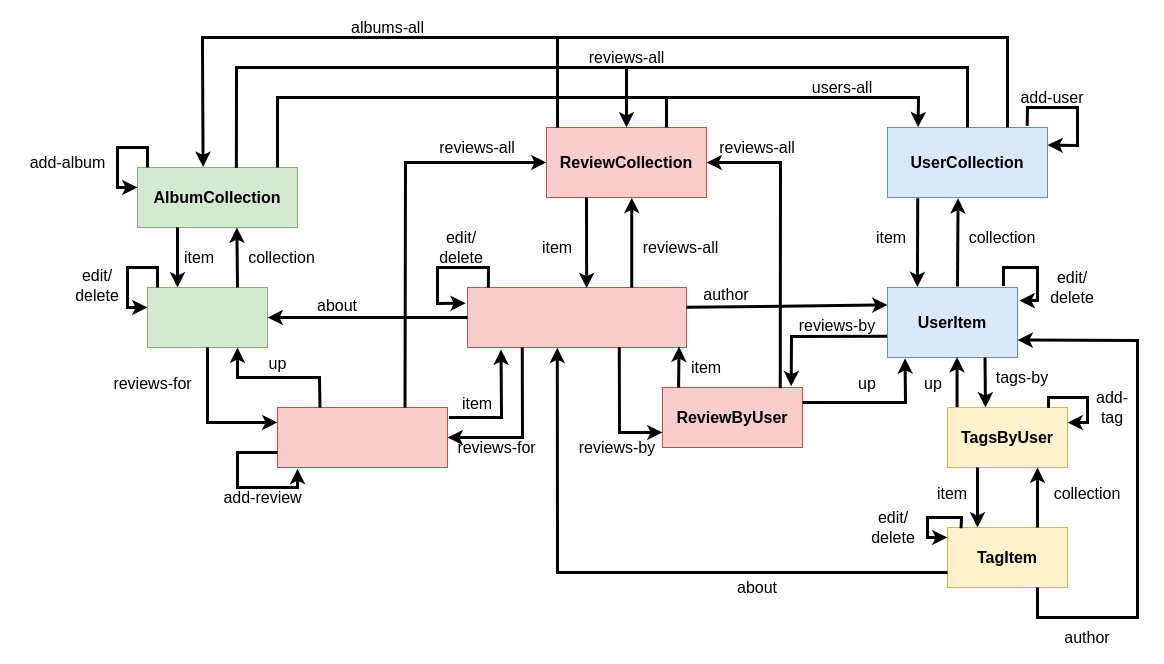
Image size: 1164x664. Some labels were removed from this diagram. Each missing label, with the centre of its shape:
"AlbumItem" goes at (207,317).
"ReviewItem" goes at (576,317).
"ReviewsByAlbum" goes at (362,437).
